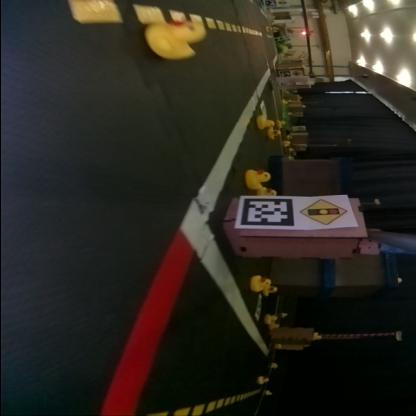Duckie: (145, 20, 202, 58), (246, 168, 270, 188), (252, 274, 270, 290), (258, 116, 274, 128), (258, 187, 276, 195), (267, 128, 280, 138), (264, 314, 276, 324), (264, 286, 276, 296), (258, 376, 268, 384), (270, 322, 280, 329), (313, 332, 321, 338), (269, 363, 277, 368)
QR code: (241, 198, 294, 226), (255, 295, 263, 319)
Signal sign: (298, 198, 349, 228)
